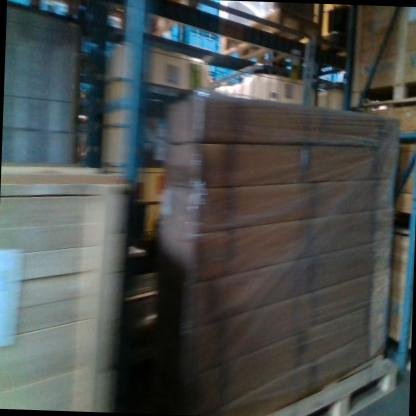pallet: (210, 7, 324, 85), (265, 353, 399, 416), (107, 0, 203, 43), (347, 71, 416, 111), (387, 332, 412, 369), (393, 208, 415, 241)
